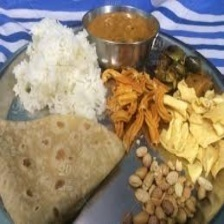rice: (8, 12, 115, 124)
